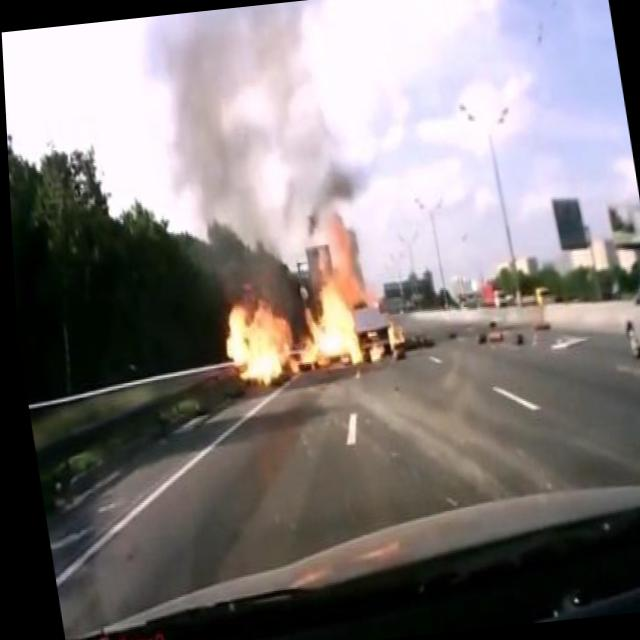fire: (201, 212, 371, 386), (381, 318, 405, 346)
